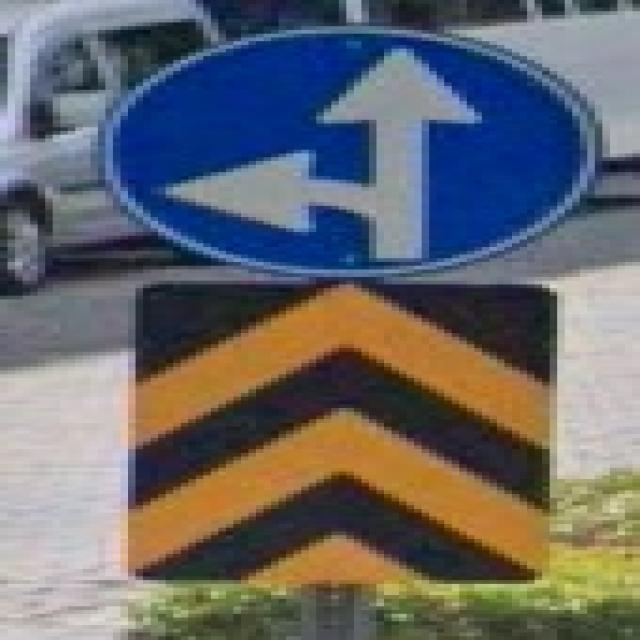Straight or Left: (106, 27, 596, 278)
